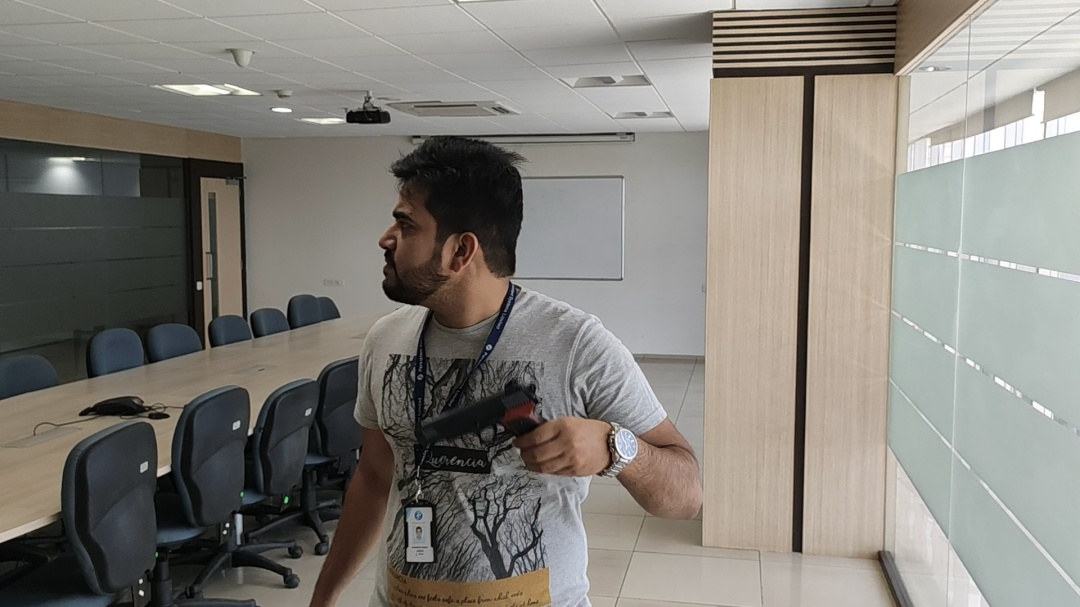gun: (412, 373, 540, 458)
